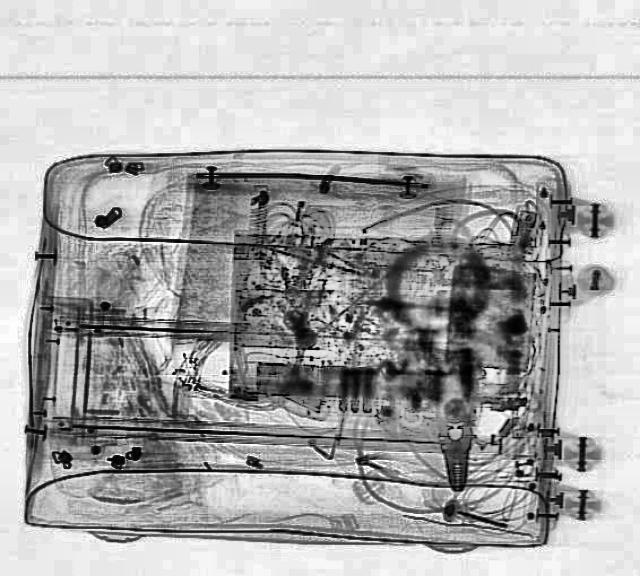Pliers: (432, 350, 478, 492)
